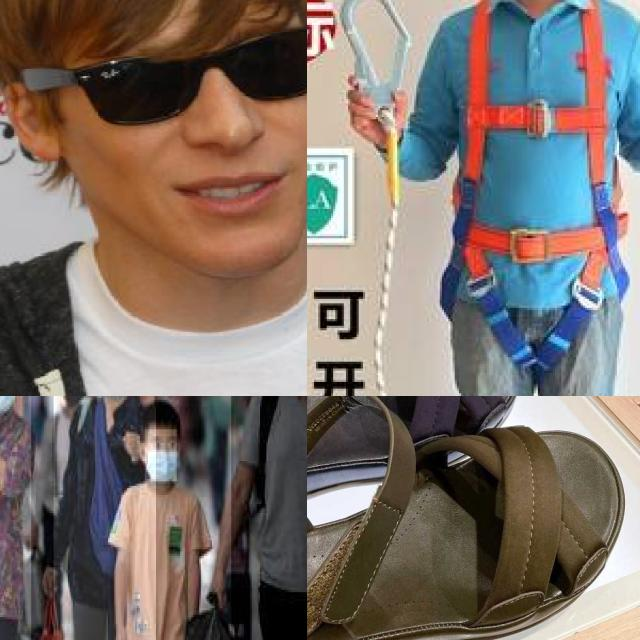Harness: (459, 0, 640, 358)
No_Ear-Protection: (0, 72, 74, 173)
Sandals: (307, 396, 640, 640)
face_mask: (145, 429, 178, 484), (61, 396, 85, 407)
face_nomask: (87, 38, 307, 211)
glasses: (19, 22, 307, 127)
hand_noglove: (202, 556, 235, 622), (36, 556, 63, 601), (105, 616, 139, 640)
head_nohelmet: (138, 404, 184, 443)
person: (53, 396, 156, 640), (111, 406, 208, 640), (231, 396, 307, 640)
